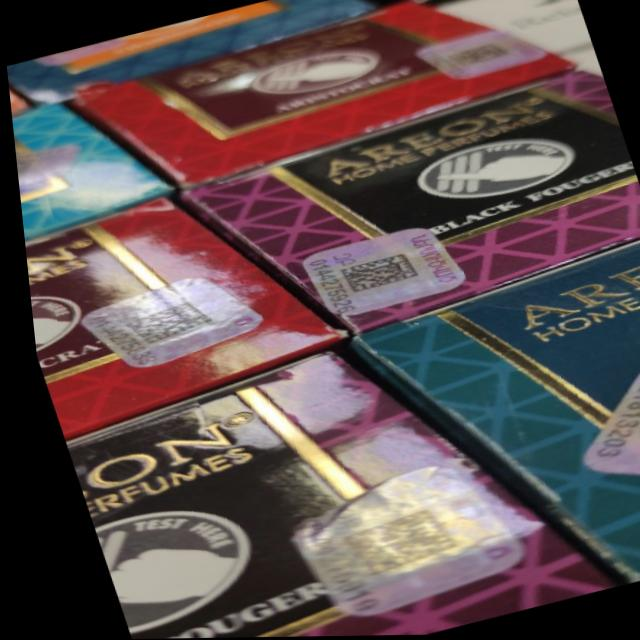datamatrix: (116, 298, 210, 348), (332, 250, 417, 296), (620, 383, 640, 457)
